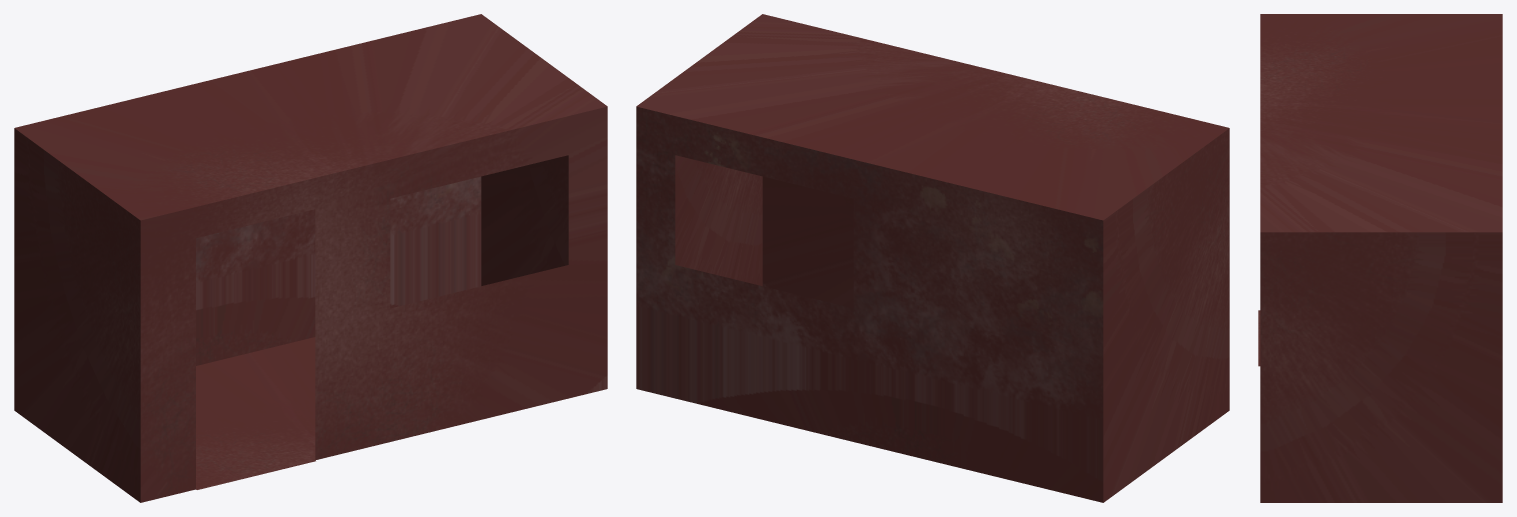
The model's file is CS_office_container_inside.FBX.
3 views of the same model, side by side, from view 1: azimuth 30°, elevation 25°; view 2: azimuth 150°, elevation 25°; view 3: azimuth 270°, elevation 25° (orthographic). The views are drawn at different scales.
Parts seen in each view (by area): view 1: SM_office_container_Container_Office_Interior; view 2: SM_office_container_Container_Office_Interior; view 3: SM_office_container_Container_Office_Interior.
Part boxes in pixels (x1,y1,x2,y2): SM_office_container_Container_Office_Interior: (14,14,607,502); SM_office_container_Container_Office_Interior: (636,14,1229,502); SM_office_container_Container_Office_Interior: (1258,14,1502,502).
Size of the model in its own units: 457 by 216 by 264.
